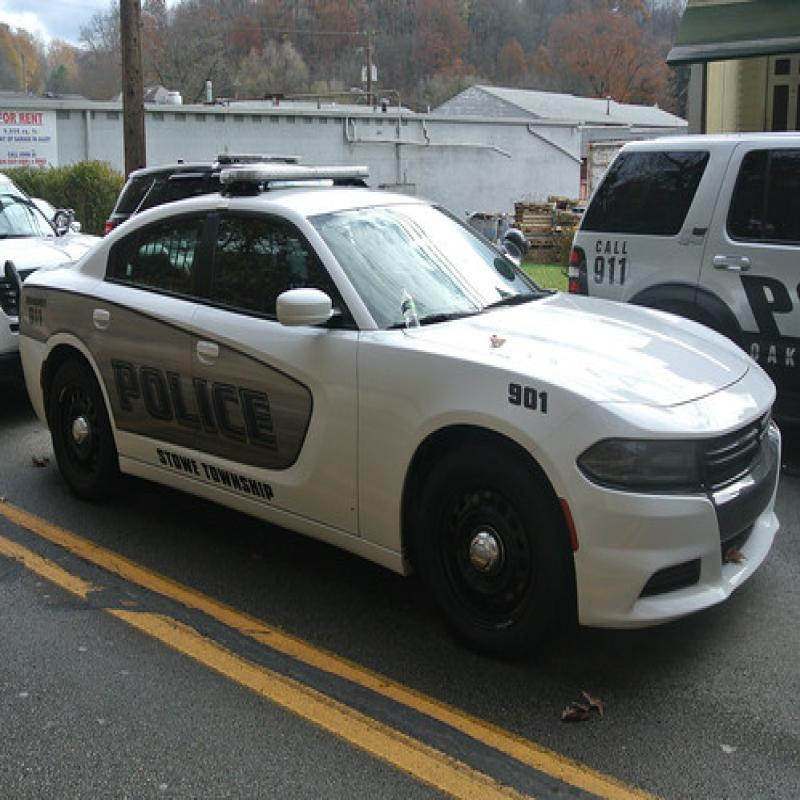AmbulanceSiren: (218, 142, 373, 210)
